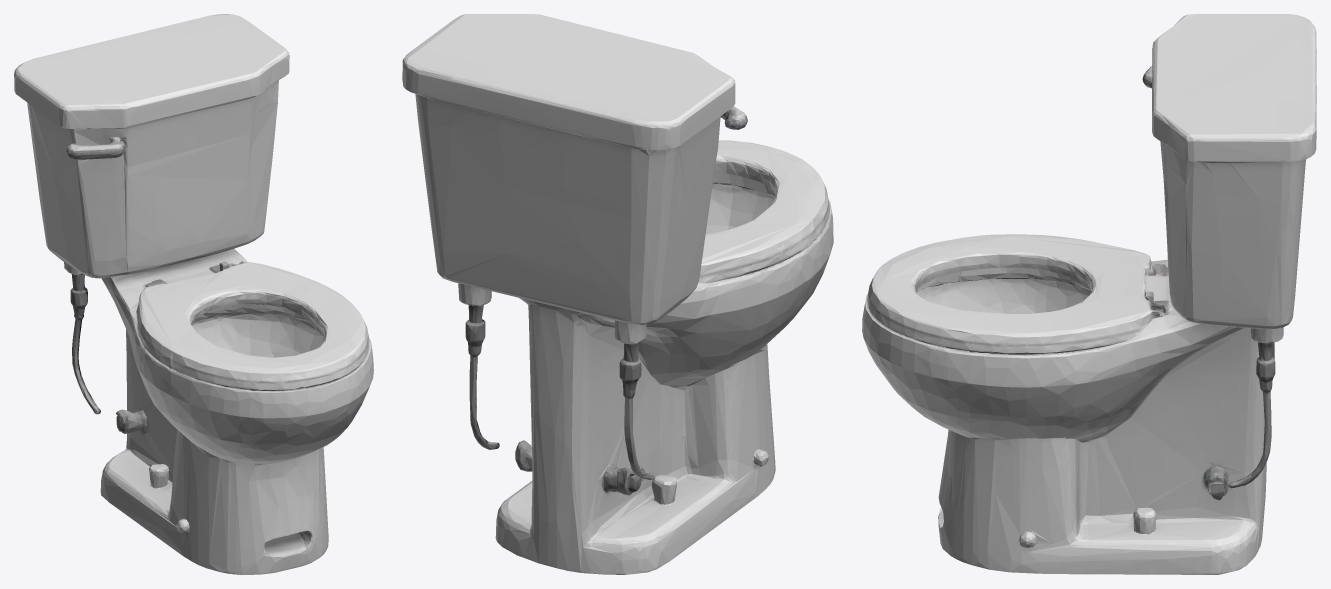
Rendered from toilet.glb.
3 renders of one model, left to right at view 1: azimuth 30°, elevation 25°; view 2: azimuth 150°, elevation 25°; view 3: azimuth 270°, elevation 25°, orthographic. The views are drawn at different scales.
Visible parts, largest first — view 1: geometry_0; view 2: geometry_0; view 3: geometry_0.
Boxes of the visible parts, bbox=[...] form: geometry_0: bbox=[14, 14, 373, 574]; geometry_0: bbox=[402, 14, 833, 574]; geometry_0: bbox=[862, 14, 1316, 574].
Size of the model in its own units: 0.5857 by 1 by 0.8927.
1 material, 1 textured.
